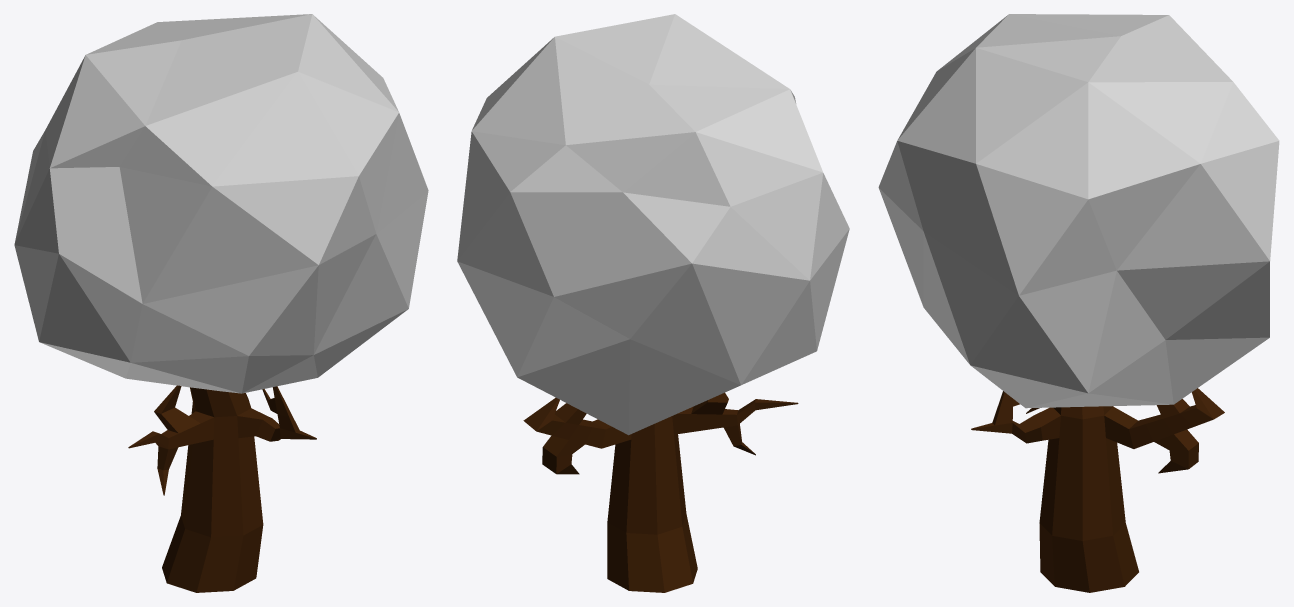
The model's file is Low_Poly_Tree_03b.fbx.
3 views of the same model, side by side, from view 1: azimuth 30°, elevation 25°; view 2: azimuth 150°, elevation 25°; view 3: azimuth 270°, elevation 25° (orthographic). The views are drawn at different scales.
Visible parts, largest first — view 1: Cylinder, Cylinder_001; view 2: Cylinder, Cylinder_001; view 3: Cylinder, Cylinder_001.
Part boxes in pixels (x1,y1,x2,y2): Cylinder: (14,14,428,393); Cylinder_001: (128,385,316,592); Cylinder: (457,14,849,435); Cylinder_001: (523,392,798,592); Cylinder: (878,14,1279,408); Cylinder_001: (971,388,1224,592).
Size of the model in its own units: 1.89 by 2.65 by 1.78.
